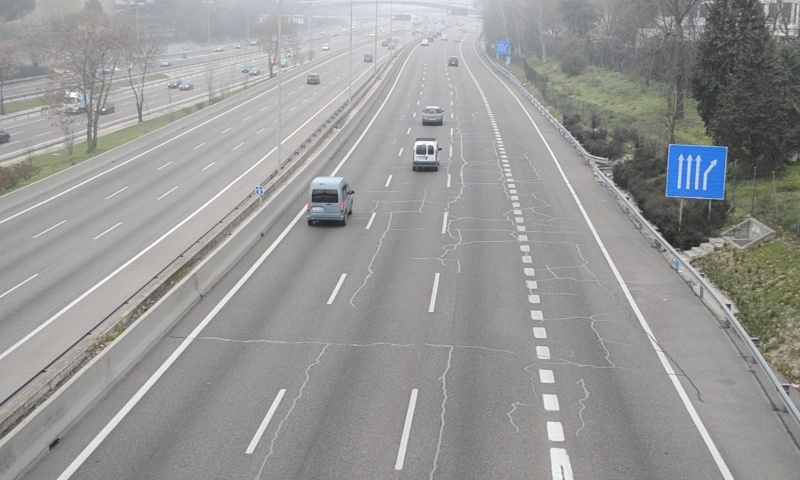car: (420, 106, 444, 126)
van: (308, 177, 352, 220), (412, 138, 438, 170)
